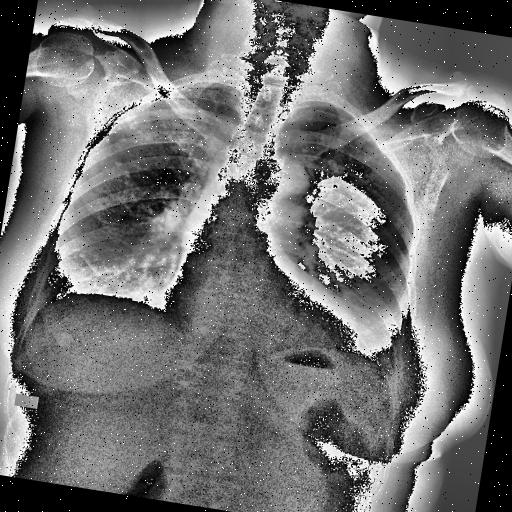0- Aortic enlargement: (246, 146, 313, 206), (248, 154, 310, 218), (252, 154, 312, 208)
11- Pleural thickening: (180, 77, 246, 98), (180, 76, 238, 94), (298, 96, 345, 116), (298, 94, 338, 112)
13- Pulmonary fibrosis: (99, 120, 151, 184)
3- Cardiomegaly: (156, 262, 369, 360), (156, 263, 366, 360), (156, 286, 362, 372)
8- Nodule-Mass: (94, 112, 152, 182), (128, 124, 144, 135), (122, 170, 134, 178), (112, 158, 122, 166), (103, 136, 110, 142), (120, 136, 126, 142)
